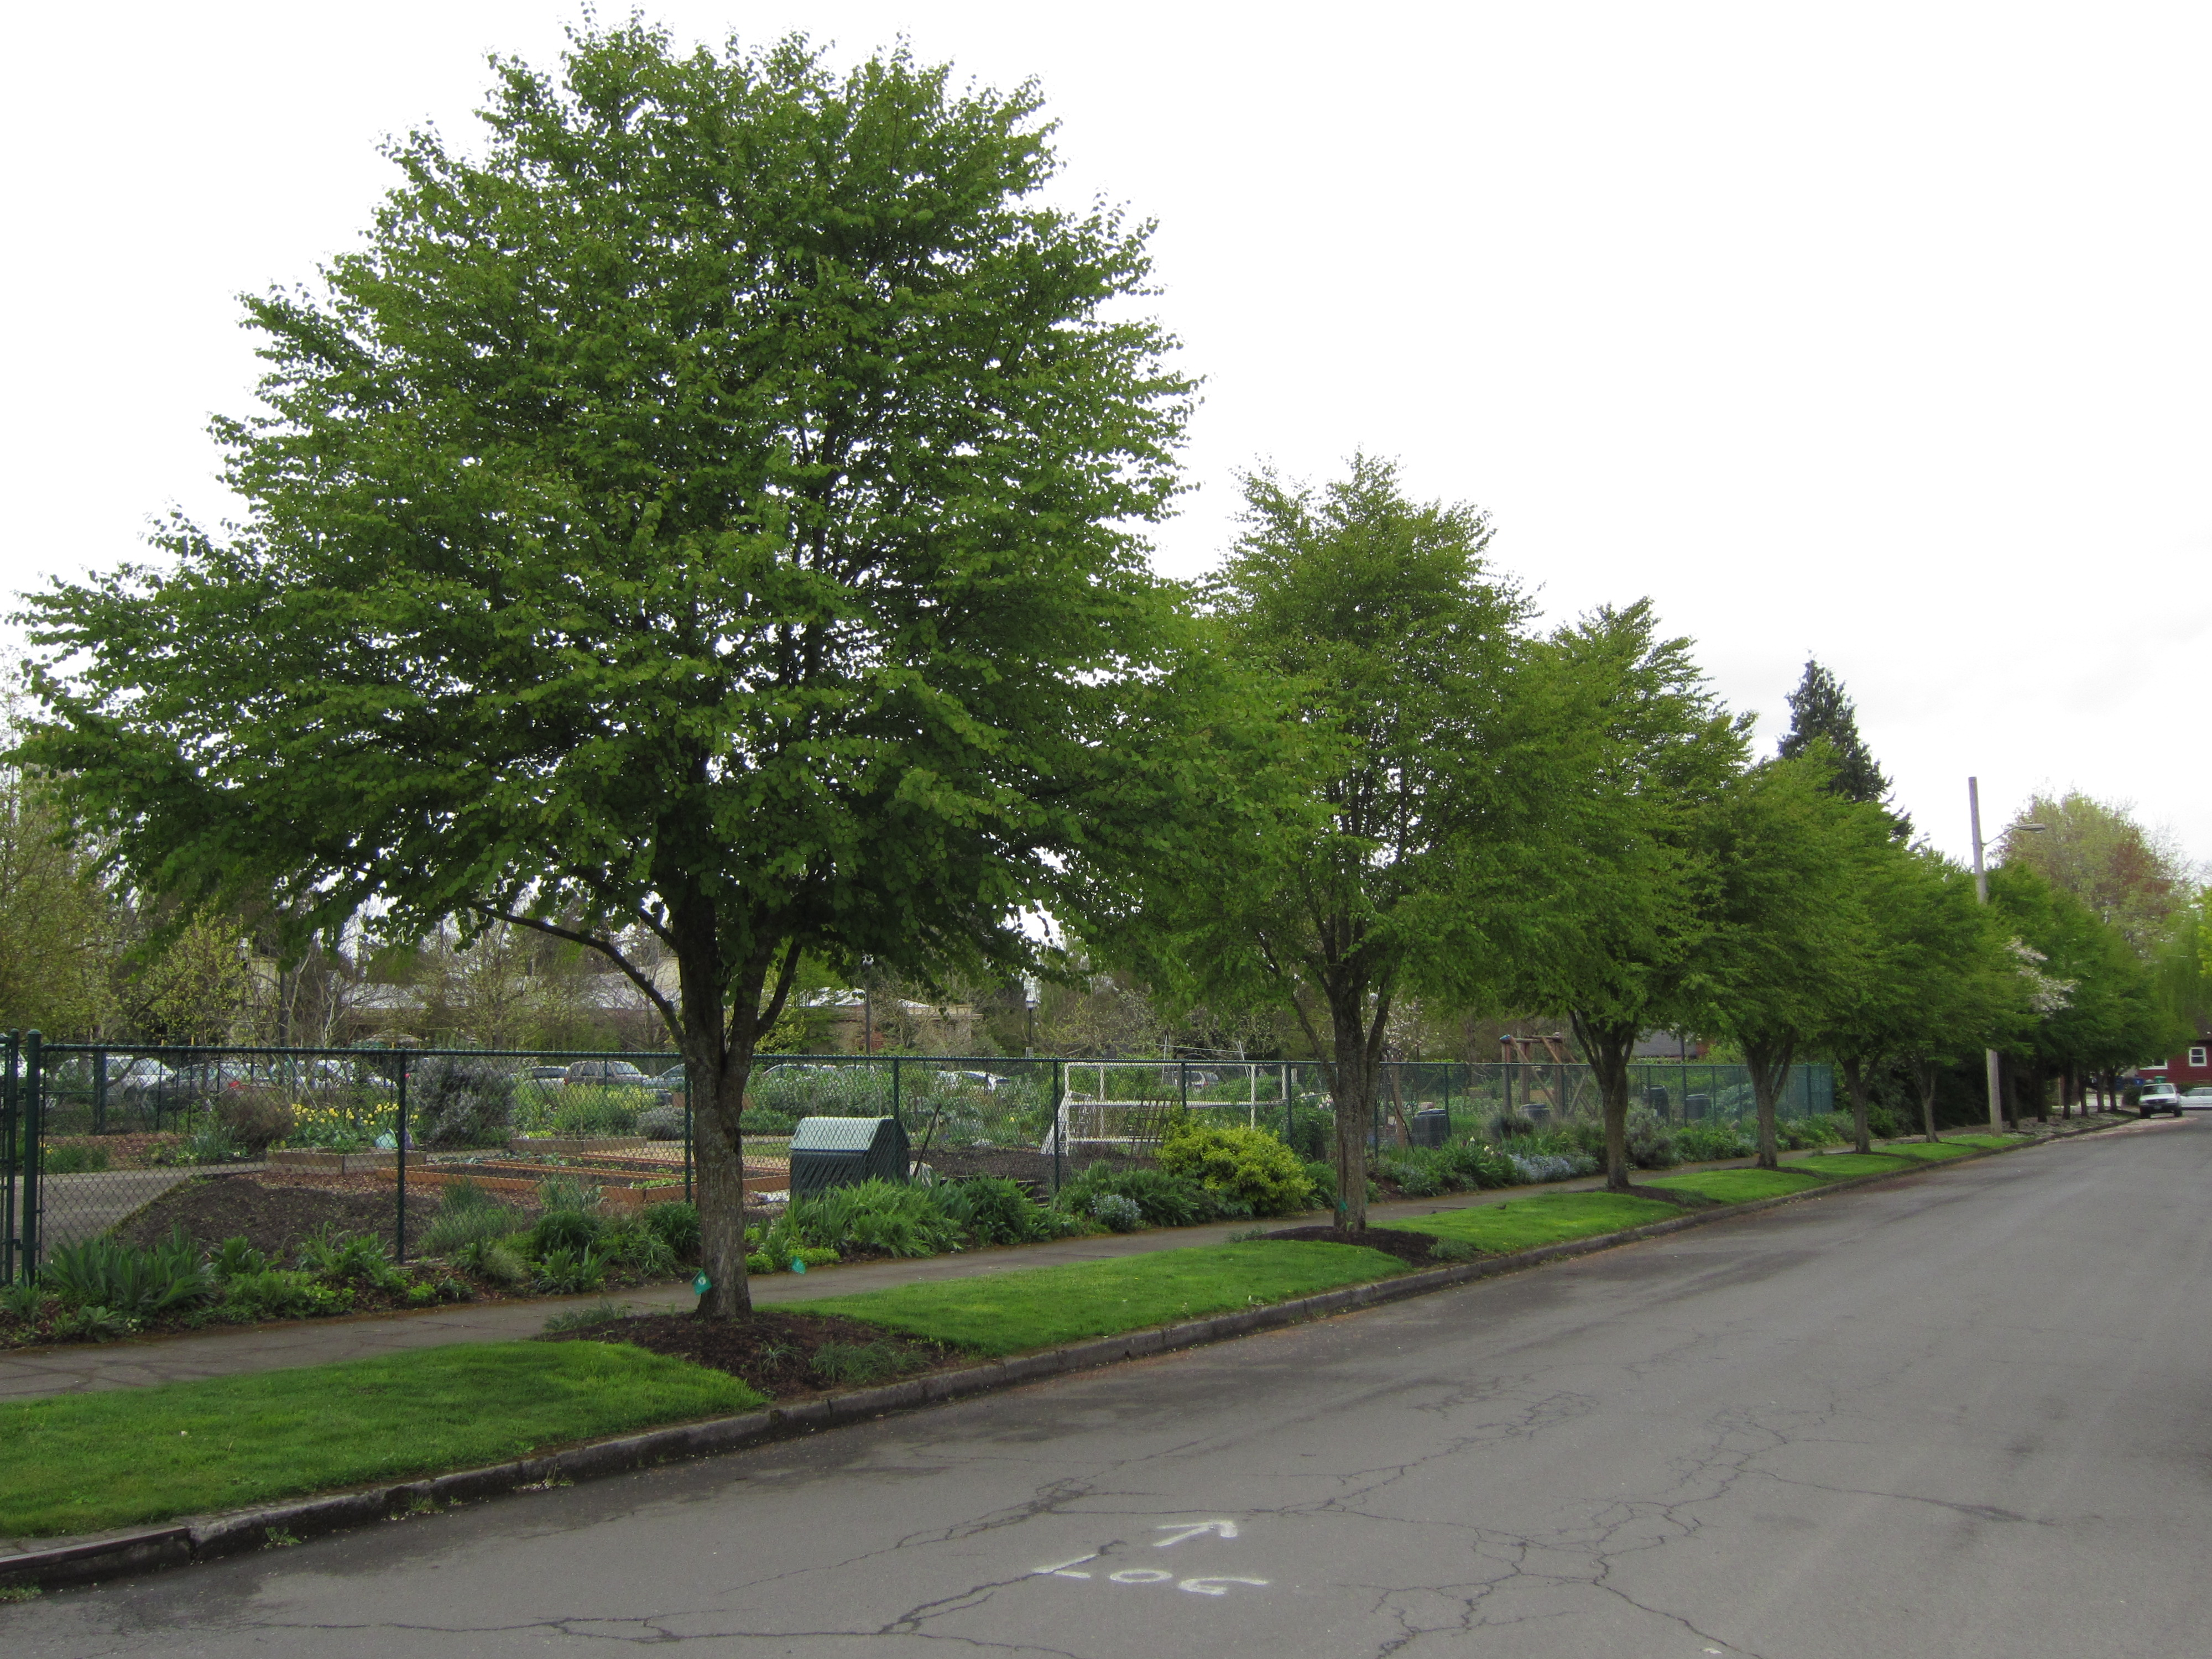tree: (0, 0, 1209, 1354), (1092, 439, 1583, 1243), (1442, 592, 1752, 1192)
